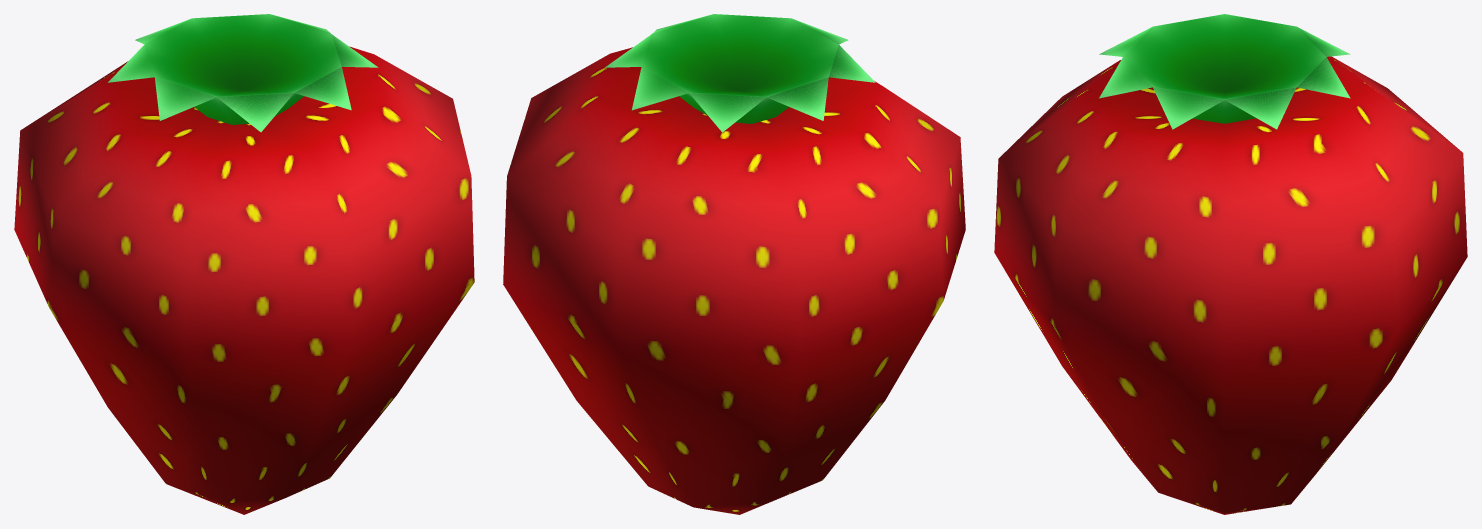
File: strawberry.fbx
3 renders of one model, left to right at view 1: azimuth 30°, elevation 25°; view 2: azimuth 150°, elevation 25°; view 3: azimuth 270°, elevation 25°, orthographic.
Visible parts, largest first — view 1: strawberry_mesh; view 2: strawberry_mesh; view 3: strawberry_mesh.
Boxes of the visible parts, box(x1,y1,x2,y2) form: strawberry_mesh: box(14, 14, 474, 514); strawberry_mesh: box(503, 14, 965, 514); strawberry_mesh: box(994, 14, 1467, 514).
Size of the model in its own units: 0.7072 by 0.7544 by 0.7071.
